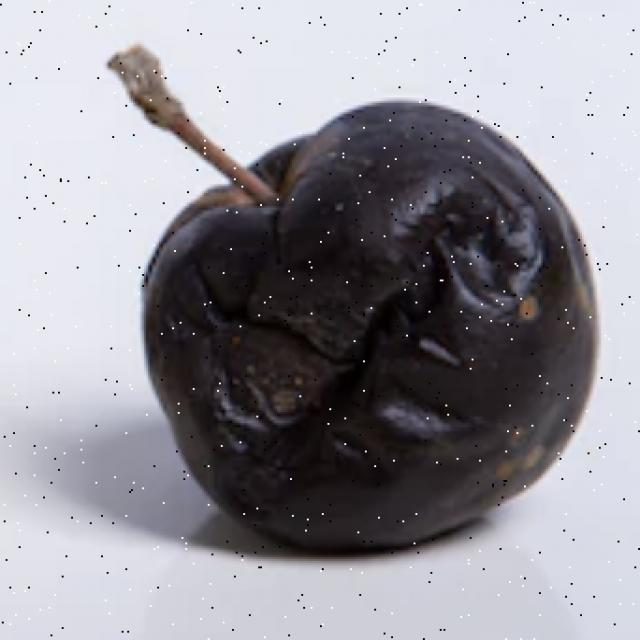Rotten: (97, 110, 600, 567)
